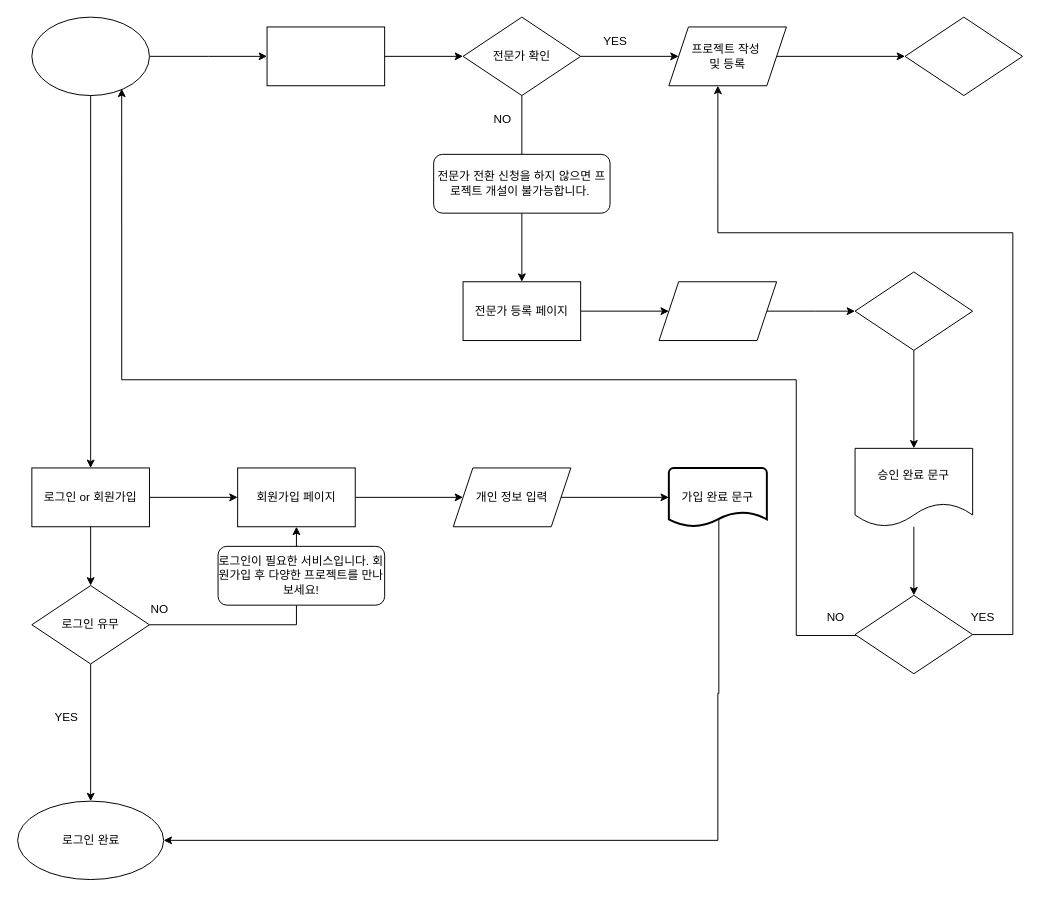
Some shapes in this 1040 by 897 pixel diagram are drawn without their labels. Here are the shapes that lost their labels. From the top down, the centre of each, then its label:
At point (90, 56): "메인 페이지".
At point (325, 56): "프로젝트 만들기".
At point (963, 56): "팀원 모집".
At point (717, 311): "전문가 정보 등록".
At point (913, 310): "전문가 인증 심사".
At point (913, 634): "프로젝트 생성 유무".
